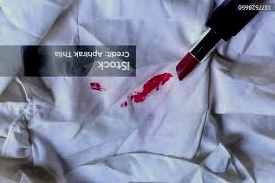lipstick: (140, 77, 175, 100), (119, 88, 151, 105), (87, 78, 108, 94), (121, 102, 129, 111)
